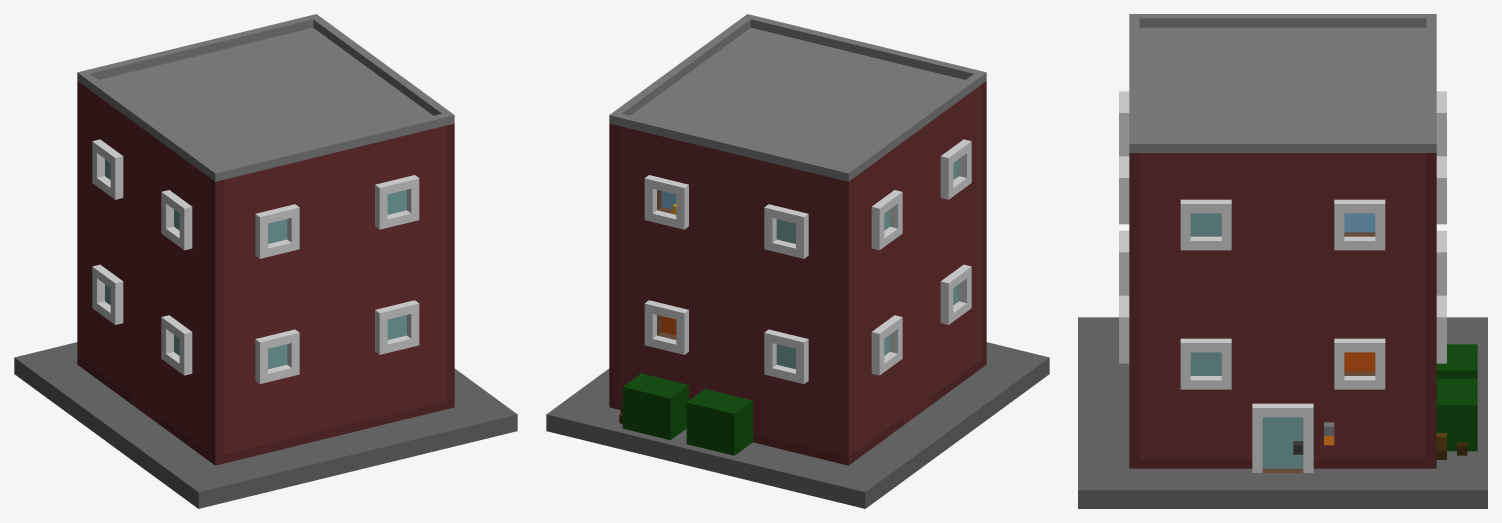
File: town_model-0.obj
3 views of the same model, side by side, from view 1: azimuth 30°, elevation 25°; view 2: azimuth 150°, elevation 25°; view 3: azimuth 270°, elevation 25° (orthographic). The views are drawn at different scales.
Visible parts, largest first — view 1: town_model-0; view 2: town_model-0; view 3: town_model-0.
Boxes of the visible parts, <box> form: town_model-0: <box>14,14,517,508</box>; town_model-0: <box>546,14,1049,508</box>; town_model-0: <box>1078,14,1487,508</box>.
Bounding box in the file's own units: 40 × 37 × 40.
Materials: 1 (1 with a texture image).
